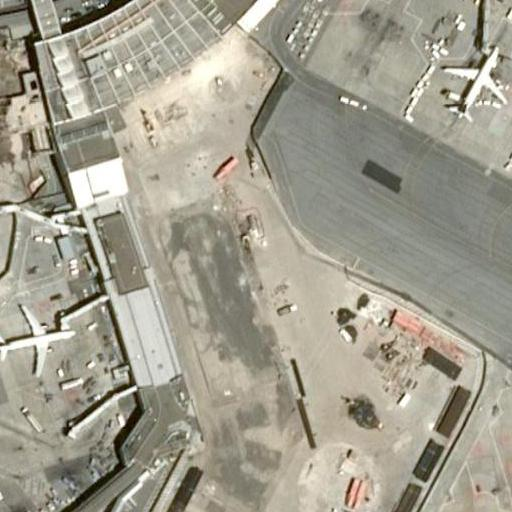Aircraft: (0, 302, 72, 373), (444, 42, 506, 113)
